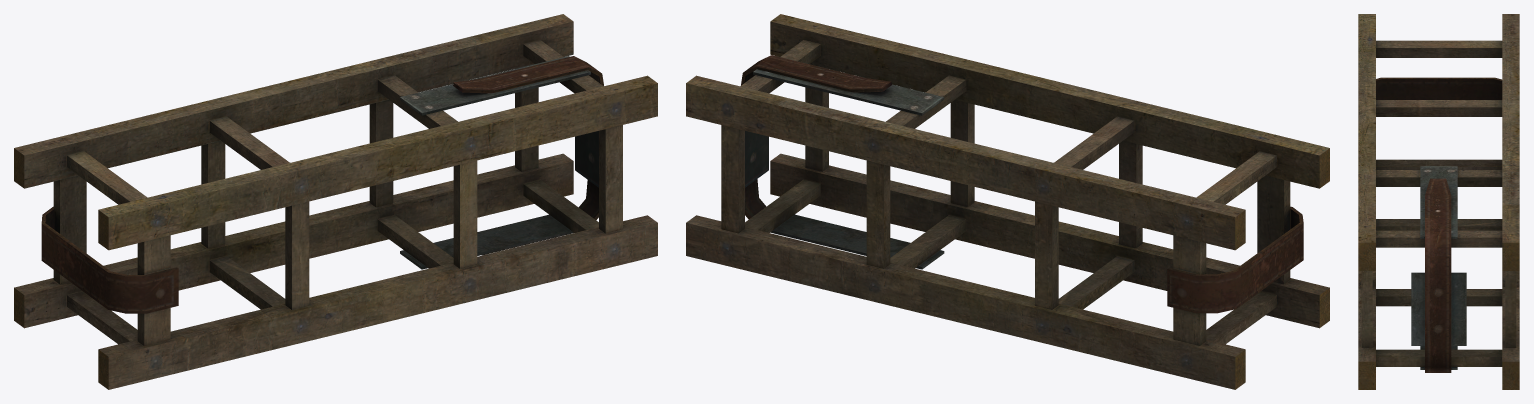
The model's file is VV_ArtyShellCrate.fbx.
3 views of the same model, side by side, from view 1: azimuth 30°, elevation 25°; view 2: azimuth 150°, elevation 25°; view 3: azimuth 270°, elevation 25° (orthographic). The views are drawn at different scales.
Visible parts, largest first — view 1: VV_ArtyShellCrate; view 2: VV_ArtyShellCrate; view 3: VV_ArtyShellCrate.
Boxes of the visible parts, left/top/right/bottom form: VV_ArtyShellCrate: left=14, top=14, right=657, bottom=389; VV_ArtyShellCrate: left=686, top=14, right=1329, bottom=389; VV_ArtyShellCrate: left=1358, top=14, right=1519, bottom=389.
Size of the model in its own units: 151 by 45.36 by 44.95.
Materials: 1 (1 with a texture image).
